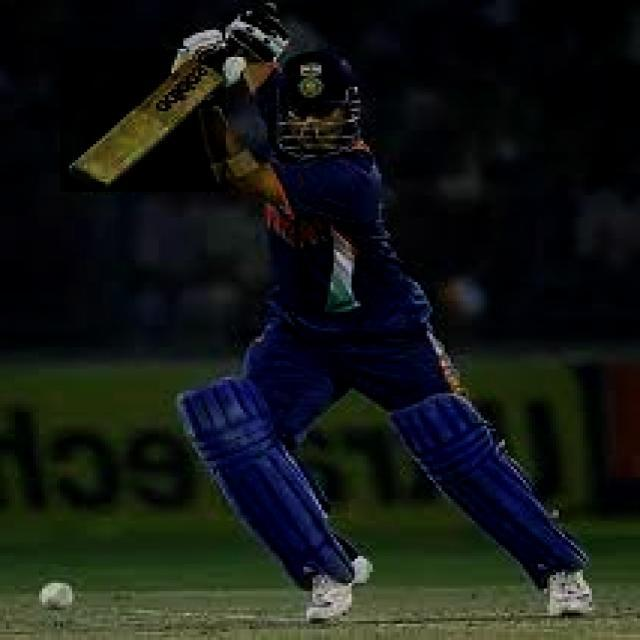bat: (64, 58, 215, 192)
toe: (67, 162, 115, 192)
